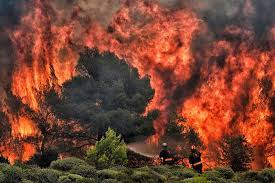fire: (190, 75, 269, 145), (140, 31, 190, 94), (12, 45, 69, 88)
smoke: (198, 1, 273, 54), (48, 1, 112, 26)
